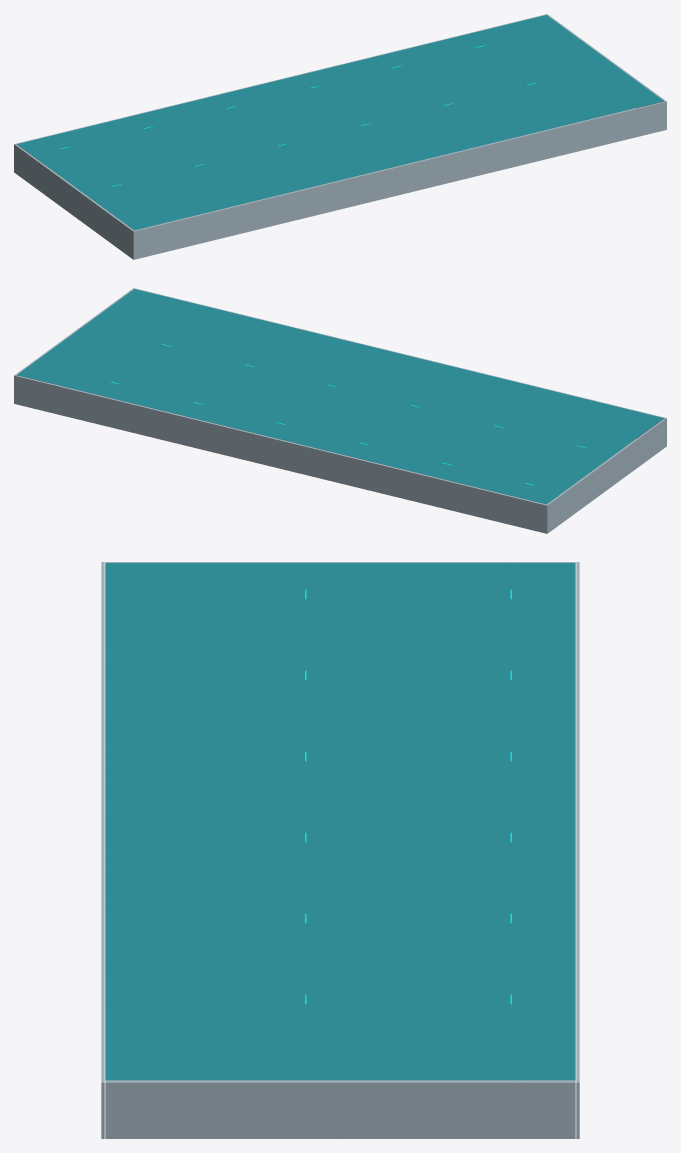
The model's file is tt_leisure_runout.glb.
3 views of the same model, one above another, from view 1: azimuth 30°, elevation 25°; view 2: azimuth 150°, elevation 25°; view 3: azimuth 270°, elevation 25° (orthographic). The views are drawn at different scales.
Visible parts, largest first — view 1: Water_Opaque, Tank_Sides, Tank_Ends, Tank_Floor; view 2: Water_Opaque, Tank_Sides, Tank_Ends, Tank_Floor; view 3: Water_Opaque, Tank_Ends, Tank_Sides.
Boxes of the visible parts, box(x1,y1,x2,y2) form: Water_Opaque: box(17, 15, 663, 230); Tank_Sides: box(14, 14, 666, 259); Tank_Ends: box(15, 15, 665, 258); Tank_Floor: box(45, 108, 635, 230); Water_Opaque: box(17, 289, 663, 504); Tank_Sides: box(14, 288, 666, 533); Tank_Ends: box(15, 289, 665, 532); Tank_Floor: box(45, 382, 635, 504); Water_Opaque: box(105, 563, 575, 1080); Tank_Ends: box(105, 562, 575, 1138); Tank_Sides: box(101, 562, 579, 1138).
Size of what is drawn, in the model's own units: 17.99 by 0.928 by 6.99.
Materials: 3 (1 with a texture image).
